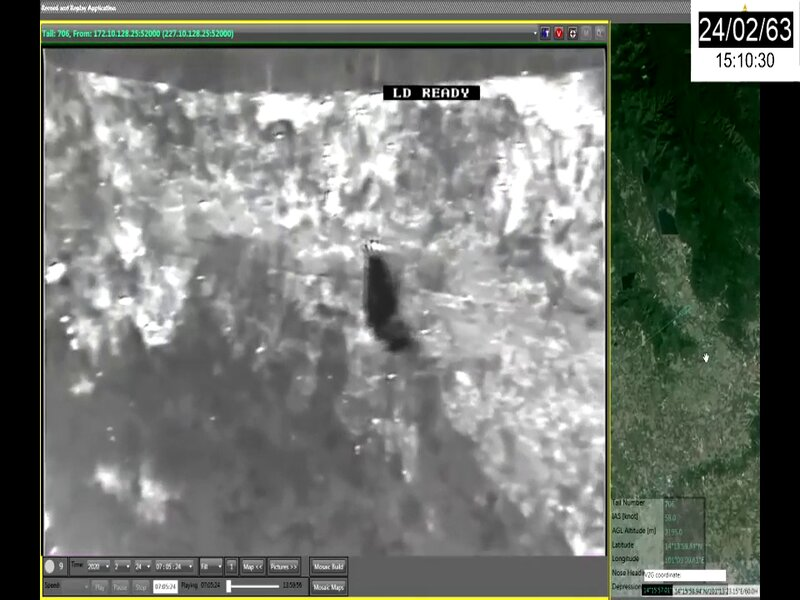Fire: (481, 71, 604, 303)
